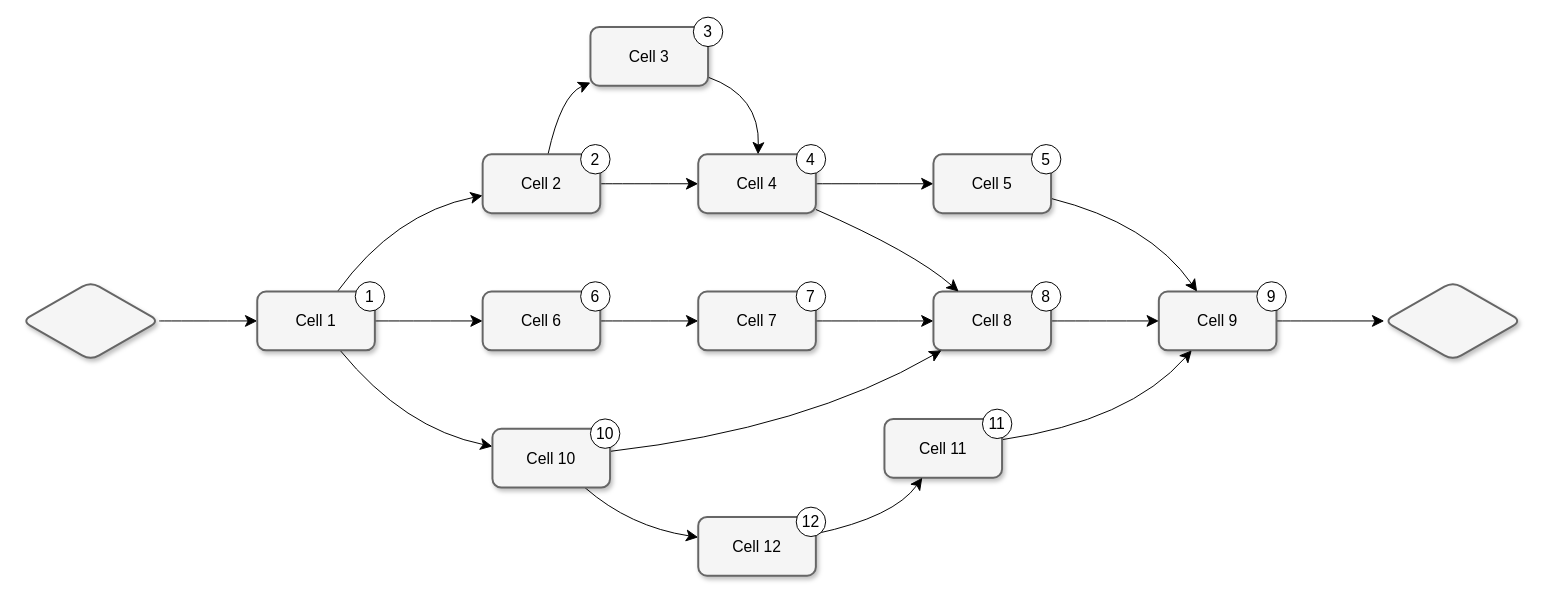
Image size: 1544x601. Some labels were removed from this diagram. The centre of each missing label's shape, as x and y in pixels:
"Finish" belongs at pixel 1453 322.
"Start" belongs at pixel 91 322.
